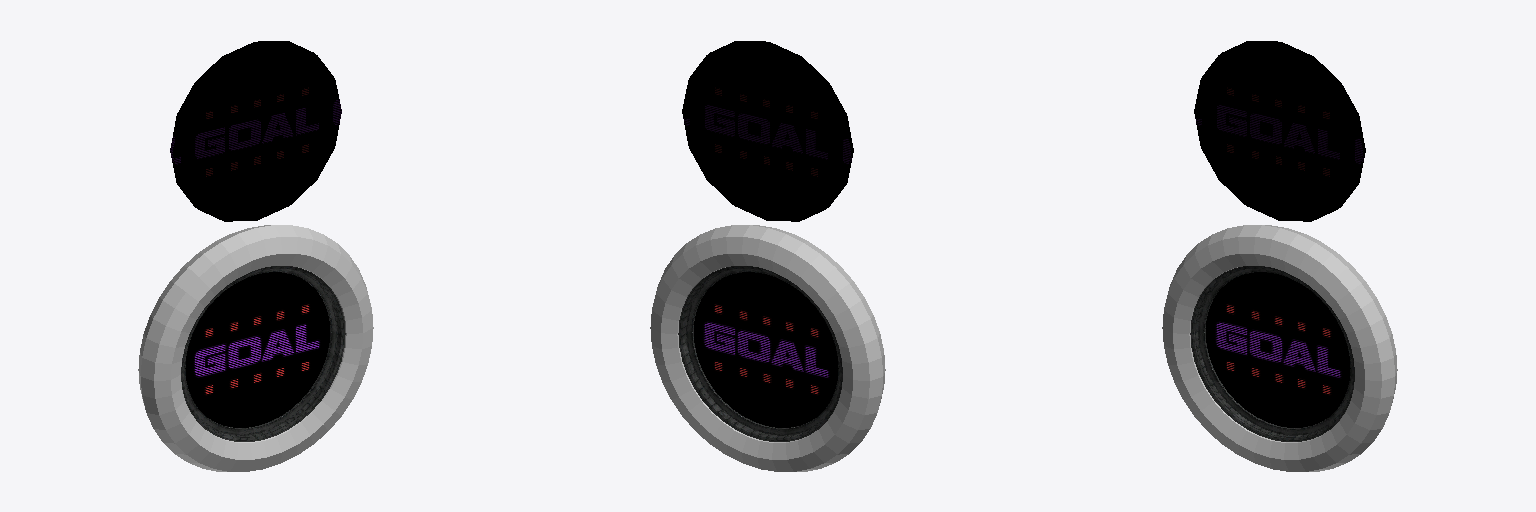
3 views of the same model, side by side, from view 1: azimuth 30°, elevation 25°; view 2: azimuth 150°, elevation 25°; view 3: azimuth 330°, elevation 25° (orthographic).
Parts seen in each view (by area): view 1: off_rdmobj01.001, mainring_rdmobj00.000, on_rdmobj01, screen_rdmobj00.003; view 2: off_rdmobj01.001, mainring_rdmobj00.000, on_rdmobj01, screen_rdmobj00.003; view 3: off_rdmobj01.001, mainring_rdmobj00.000, on_rdmobj01, screen_rdmobj00.003.
Part boxes in pixels (bbox=[...]): off_rdmobj01.001: bbox=[170, 41, 341, 221]; mainring_rdmobj00.000: bbox=[138, 225, 373, 471]; on_rdmobj01: bbox=[185, 272, 329, 427]; screen_rdmobj00.003: bbox=[181, 266, 345, 441]; off_rdmobj01.001: bbox=[682, 41, 853, 221]; mainring_rdmobj00.000: bbox=[650, 225, 885, 471]; on_rdmobj01: bbox=[694, 272, 838, 427]; screen_rdmobj00.003: bbox=[678, 266, 842, 441]; off_rdmobj01.001: bbox=[1194, 41, 1365, 221]; mainring_rdmobj00.000: bbox=[1162, 225, 1397, 471]; on_rdmobj01: bbox=[1206, 272, 1350, 427]; screen_rdmobj00.003: bbox=[1190, 266, 1354, 441].
Size of the model in its own units: 144 by 255 by 23.84.
Materials: 4 (3 with a texture image).